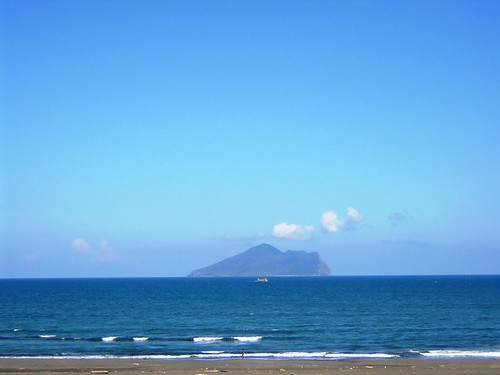turtleIslandLeft: (188, 243, 331, 277)
